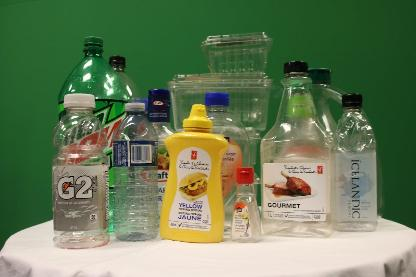Others: (160, 104, 228, 242), (200, 32, 272, 76)
Plastic Bottle: (261, 62, 333, 238), (49, 90, 109, 252), (108, 100, 158, 240), (334, 91, 378, 236)
